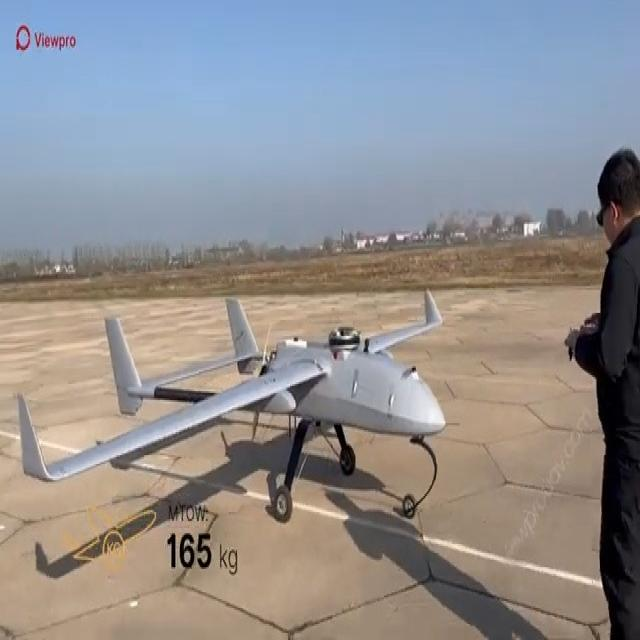drones: (15, 277, 448, 600)
